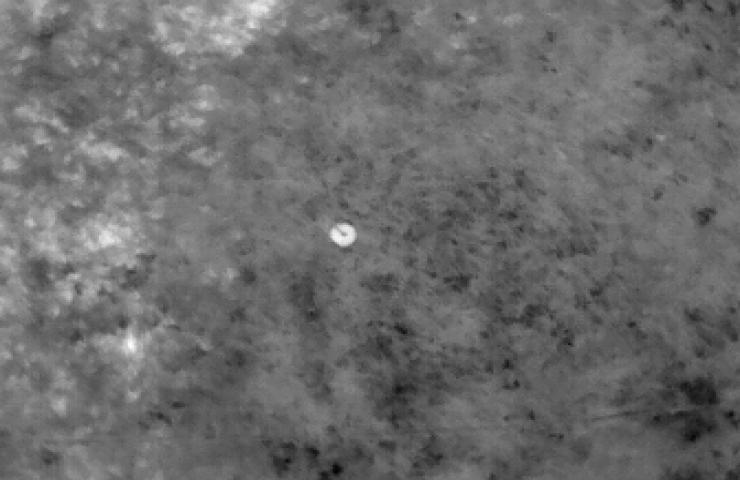landmines: (330, 223, 361, 250)
